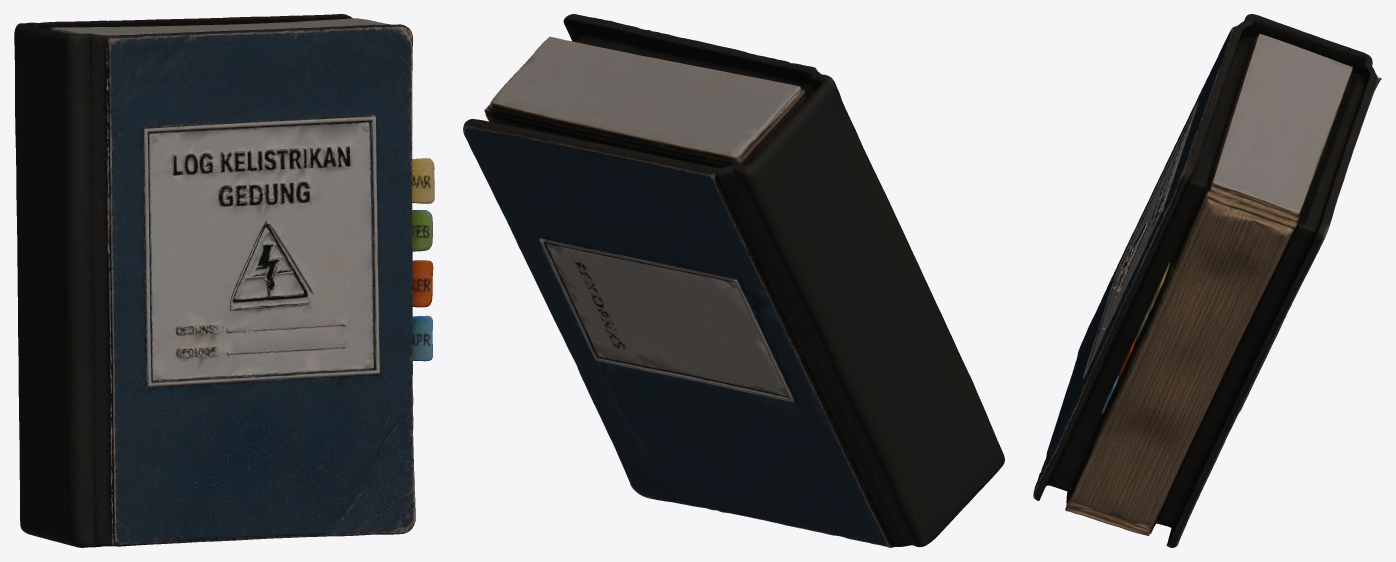
Rendered from tripo_convert_caf40b58-1efe-477c-b364-6ed98269dfc2.fbx.
3 views of the same model, side by side, from view 1: azimuth 30°, elevation 25°; view 2: azimuth 150°, elevation 25°; view 3: azimuth 270°, elevation 25° (orthographic). The views are drawn at different scales.
Visible parts, largest first — view 1: tripo_node_caf40b58; view 2: tripo_node_caf40b58; view 3: tripo_node_caf40b58.
Part boxes in pixels (x1,y1,x2,y2): tripo_node_caf40b58: [14, 14, 434, 547]; tripo_node_caf40b58: [463, 14, 1004, 547]; tripo_node_caf40b58: [1033, 14, 1381, 547].
Size of the model in its own units: 84.93 by 72.19 by 100.
Materials: 1 (1 with a texture image).
